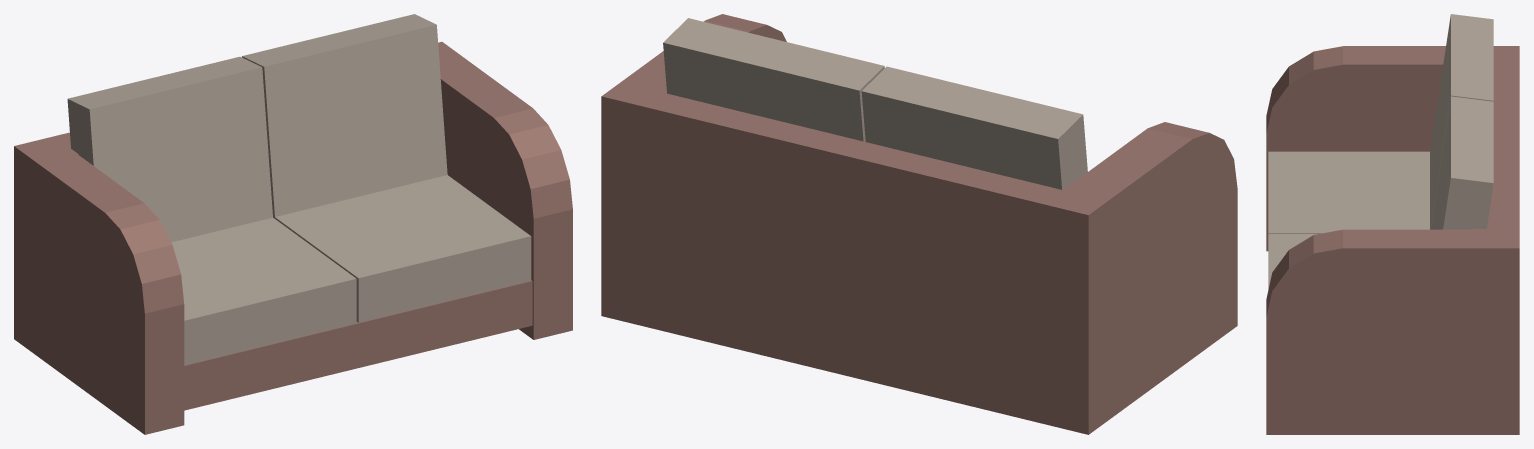
Rendered from couch.glb.
The picture shows the model from 3 angles, left to right: view 1: azimuth 30°, elevation 25°; view 2: azimuth 150°, elevation 25°; view 3: azimuth 270°, elevation 25°; orthographic projection. The views are drawn at different scales.
Parts seen in each view (by area): view 1: Sofa_03; view 2: Sofa_03; view 3: Sofa_03.
Boxes of the visible parts, bbox=[...] form: Sofa_03: bbox=[14, 14, 572, 434]; Sofa_03: bbox=[601, 14, 1237, 434]; Sofa_03: bbox=[1266, 14, 1519, 434].
Bounding box in the file's own units: 0.3497 × 0.192 × 0.1852.
1 material, 1 textured.
